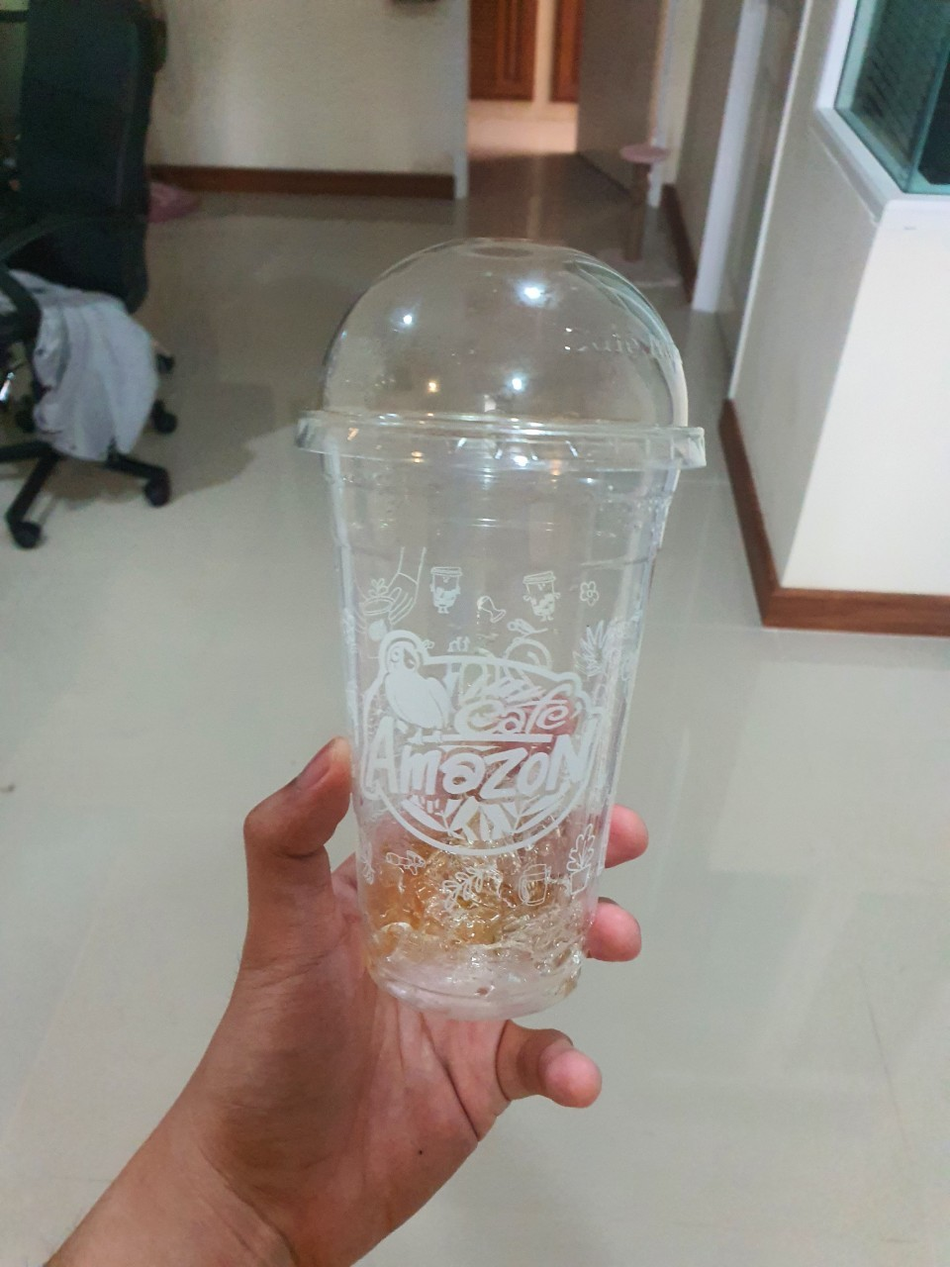plastic: (267, 223, 725, 1023)
